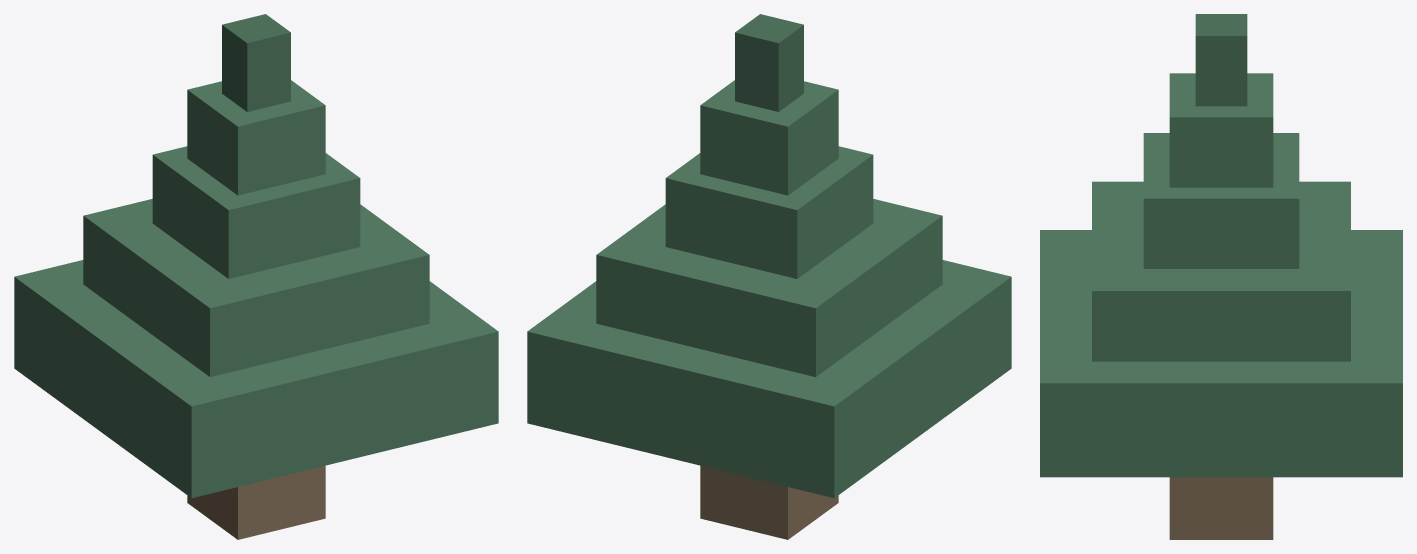
File: abeto_04.glb
The picture shows the model from 3 angles, left to right: view 1: azimuth 30°, elevation 25°; view 2: azimuth 150°, elevation 25°; view 3: azimuth 270°, elevation 25°; orthographic projection. The views are drawn at different scales.
Parts seen in each view (by area): view 1: abeto_04; view 2: abeto_04; view 3: abeto_04.
Boxes of the visible parts, x1,y1,x2,y2 form: abeto_04: [14, 14, 498, 539]; abeto_04: [527, 14, 1011, 539]; abeto_04: [1040, 14, 1402, 539].
Bounding box in the file's own units: 1.4 × 2.1 × 1.4.
